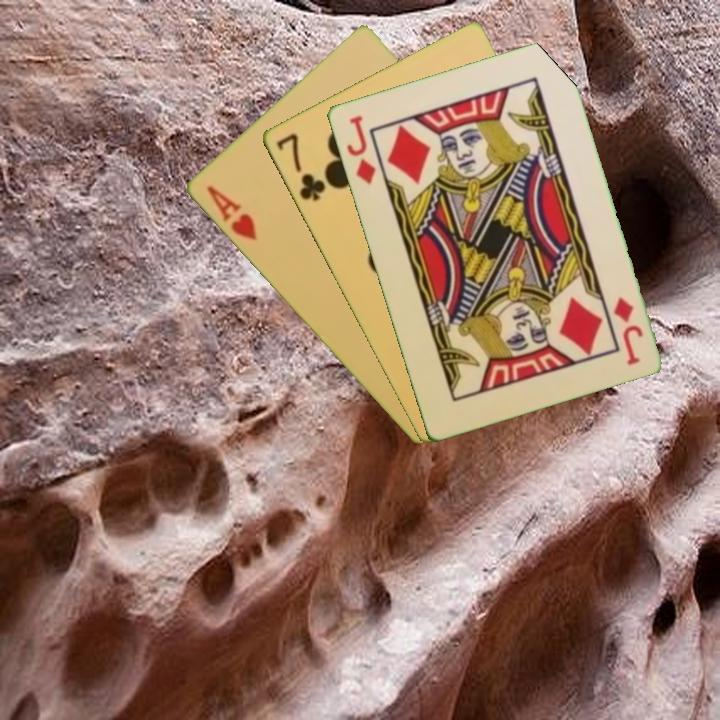7c: (272, 129, 328, 204)
Ah: (202, 182, 260, 244)
Jd: (609, 293, 646, 368), (342, 112, 378, 188)
